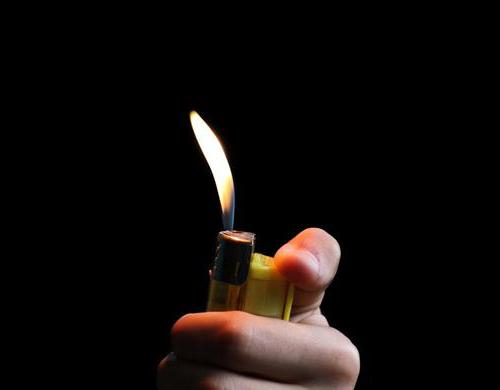fire: (186, 98, 247, 239)
